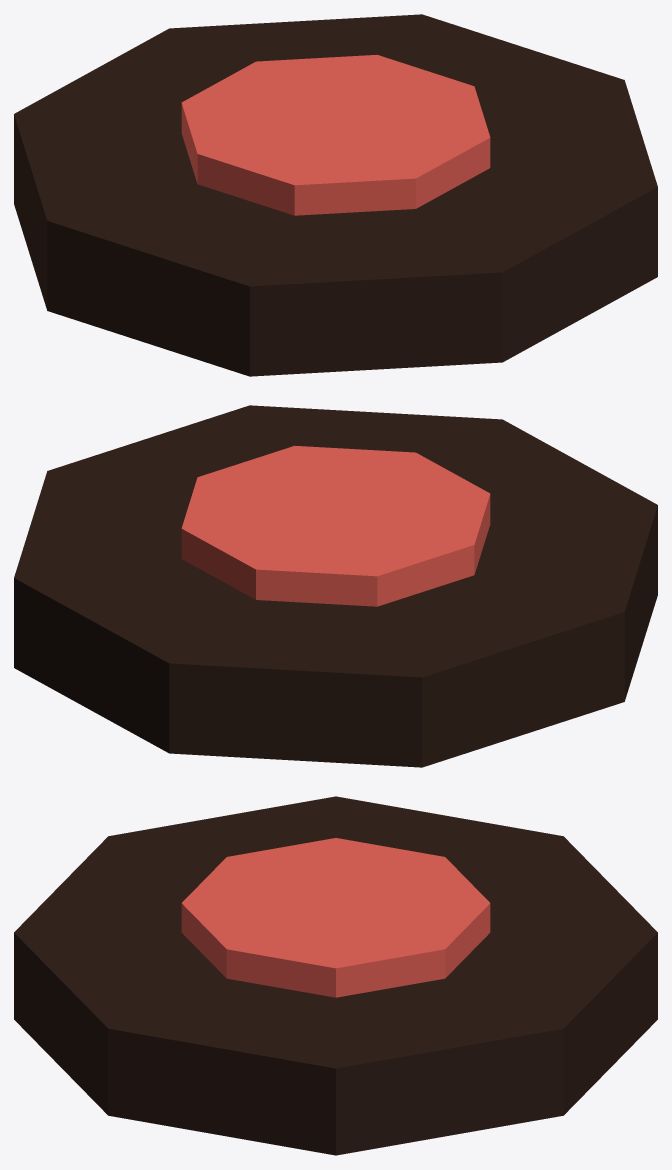
Rendered from mine.fbx.
3 views of the same model, one above another, from view 1: azimuth 30°, elevation 25°; view 2: azimuth 150°, elevation 25°; view 3: azimuth 270°, elevation 25° (orthographic). The views are drawn at different scales.
Visible parts, largest first — view 1: Cylinder, Cylinder.001; view 2: Cylinder, Cylinder.001; view 3: Cylinder, Cylinder.001.
Part boxes in pixels (left/top/right/bottom): Cylinder: left=14, top=14, right=657, bottom=376; Cylinder.001: left=181, top=54, right=490, bottom=215; Cylinder: left=14, top=405, right=657, bottom=767; Cylinder.001: left=181, top=445, right=490, bottom=606; Cylinder: left=14, top=796, right=657, bottom=1155; Cylinder.001: left=181, top=838, right=490, bottom=997.
Size of the model in its own units: 200 by 39.88 by 200.
